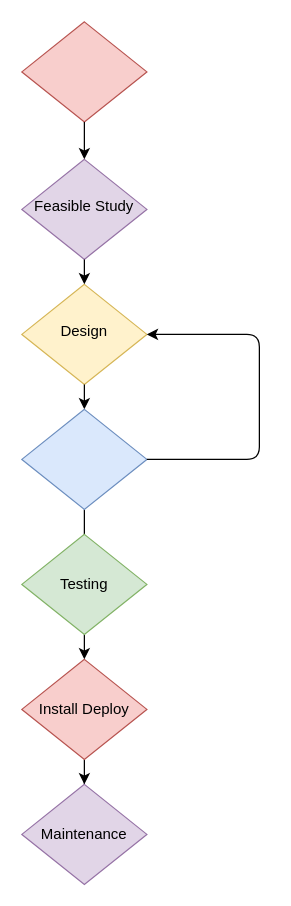
Image size: 291x906. Some labels were removed from this diagram. The box of each missing label's shape, as (x1, y1, x2, y2) in pixels:
Coding: (21, 408, 147, 509)
Requirement Analysis: (21, 21, 147, 122)
